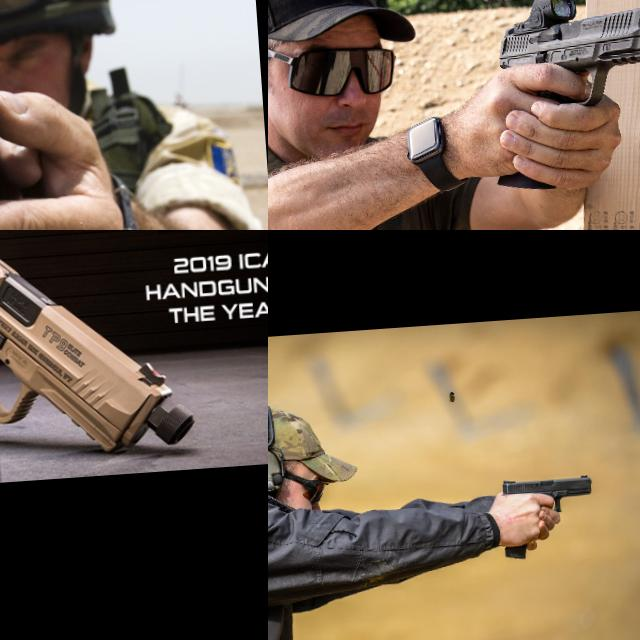handgun: (0, 230, 200, 476), (492, 0, 640, 114), (0, 0, 69, 214), (499, 473, 593, 516)
